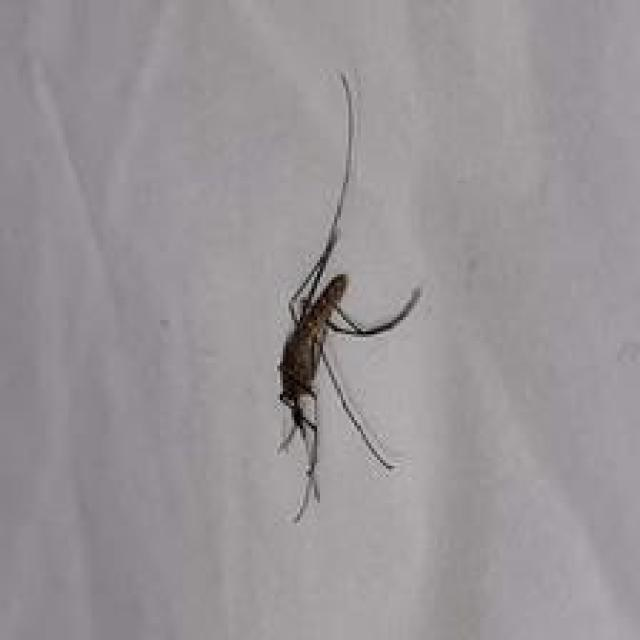Culex: (273, 68, 424, 523)
